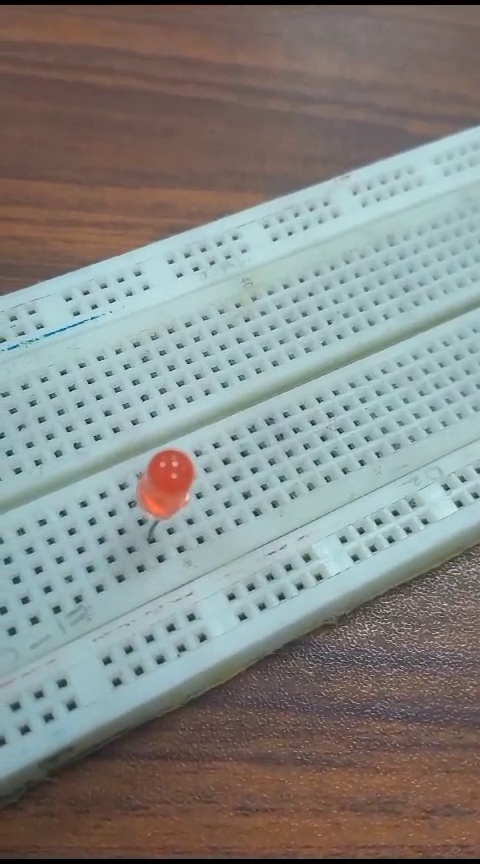LED: (131, 445, 207, 536)
